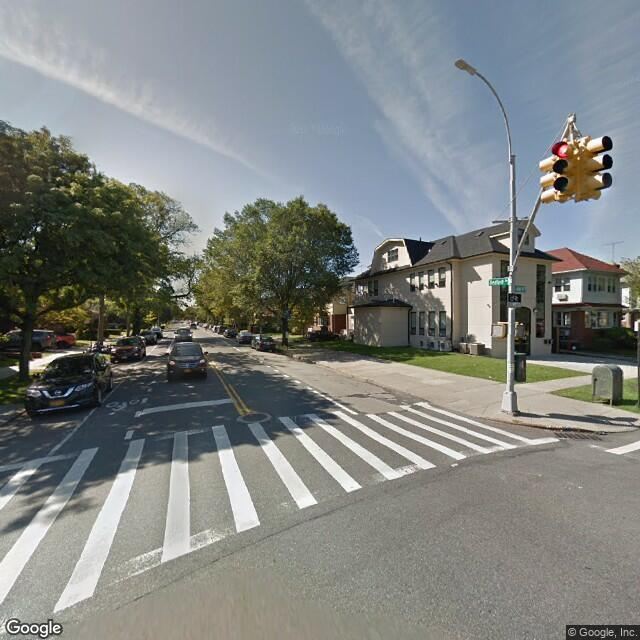litter: (450, 462, 459, 469), (488, 374, 494, 379)
